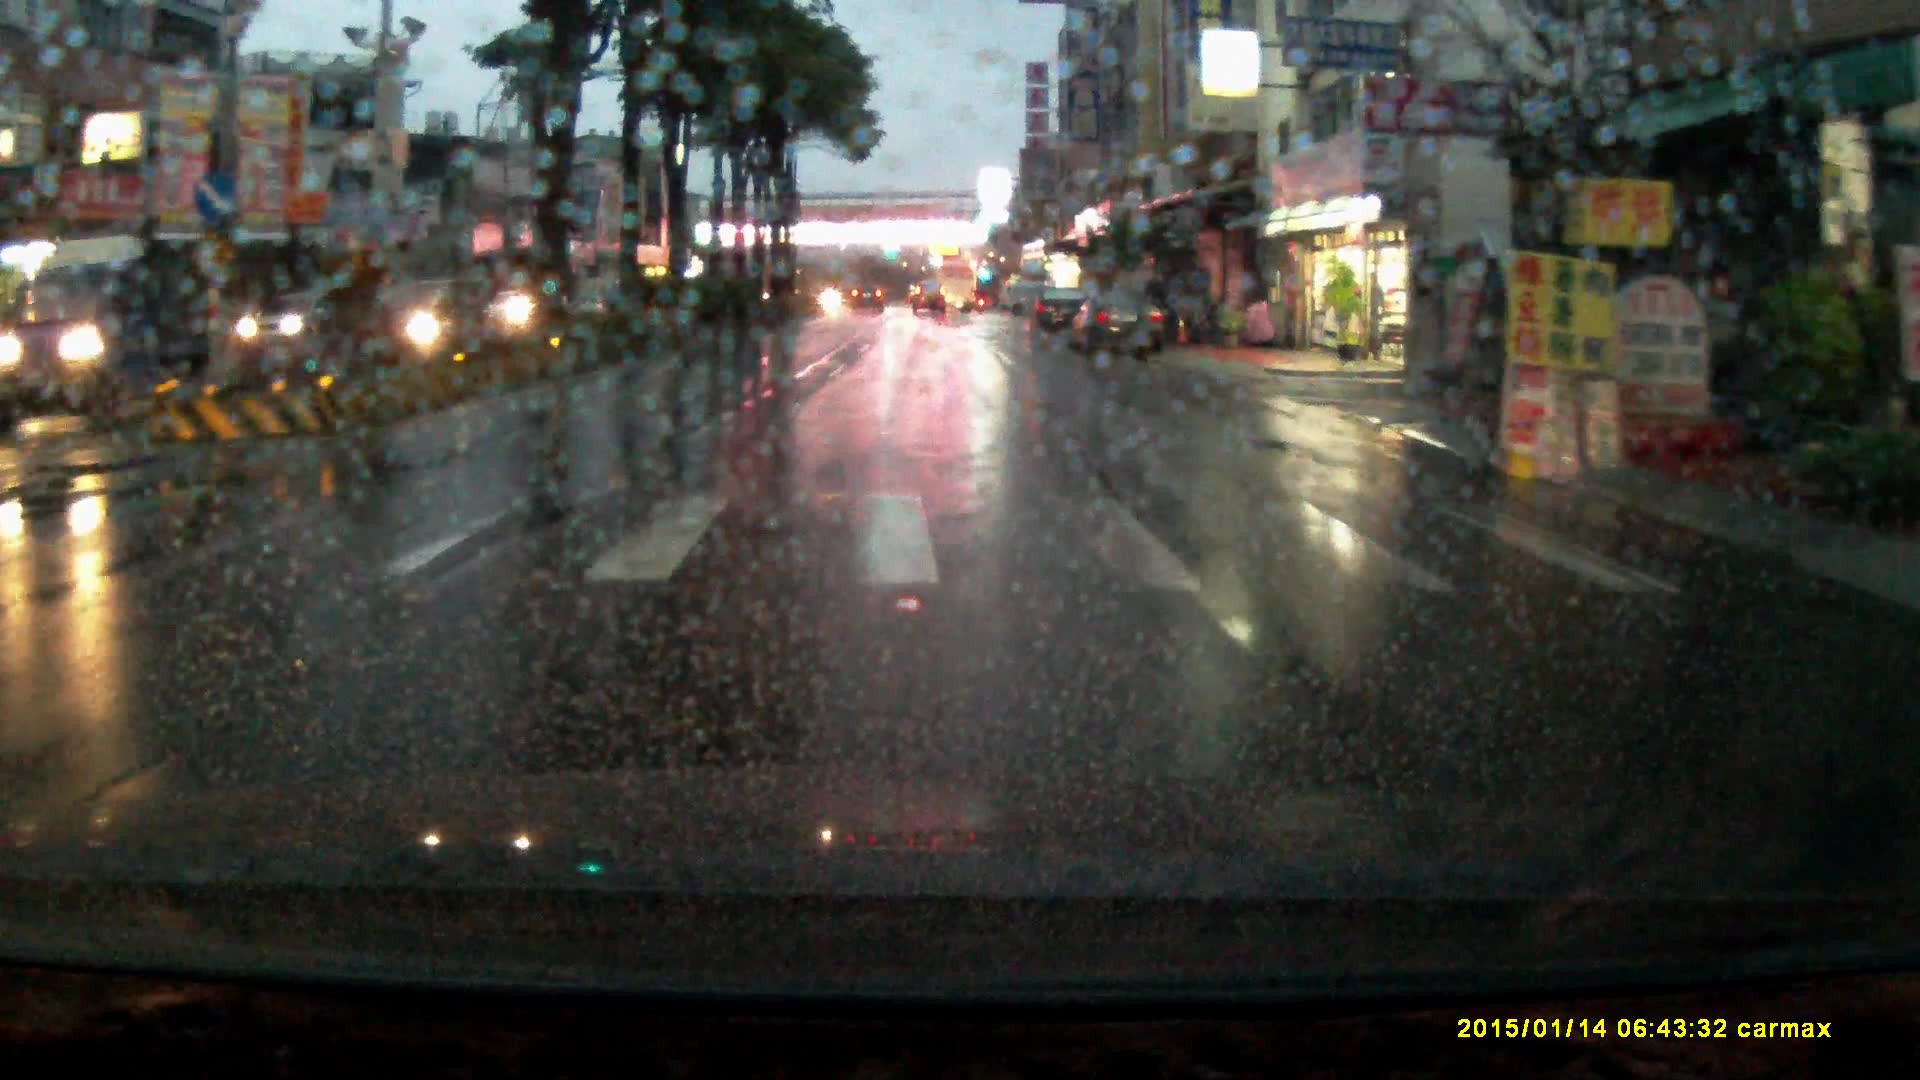rider: (500, 267, 541, 348)
vehicle: (7, 230, 245, 415), (353, 278, 498, 360), (243, 292, 352, 360), (1069, 291, 1171, 364), (1030, 290, 1088, 343), (930, 256, 978, 316), (914, 282, 950, 320), (851, 285, 886, 316)
